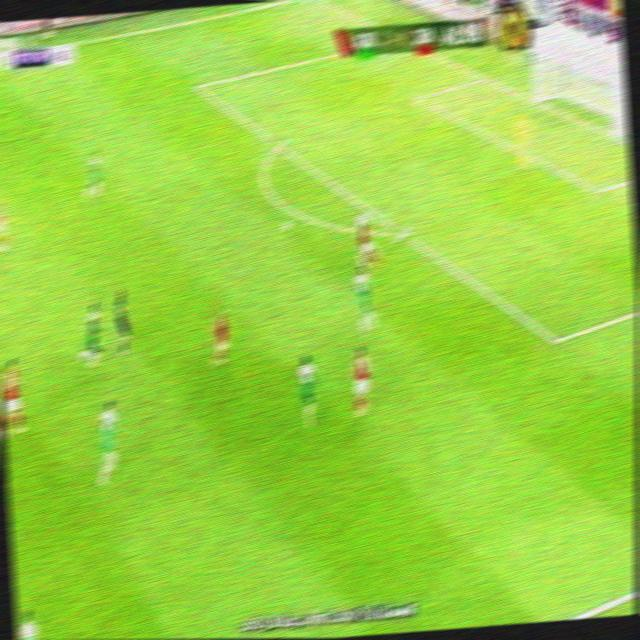bigarea_bottom_inner: (543, 324, 569, 353)
bigarea_top_inner: (189, 75, 208, 96)
bottom_arc_area_intersection: (391, 221, 411, 242)
corner: (301, 0, 322, 3)
smallarea_bottom_inner: (588, 175, 611, 202)
smallarea_top_inner: (410, 87, 429, 106)
smallarea_top_outter: (475, 67, 495, 86)
top_arc_area_intersection: (269, 134, 289, 154)
